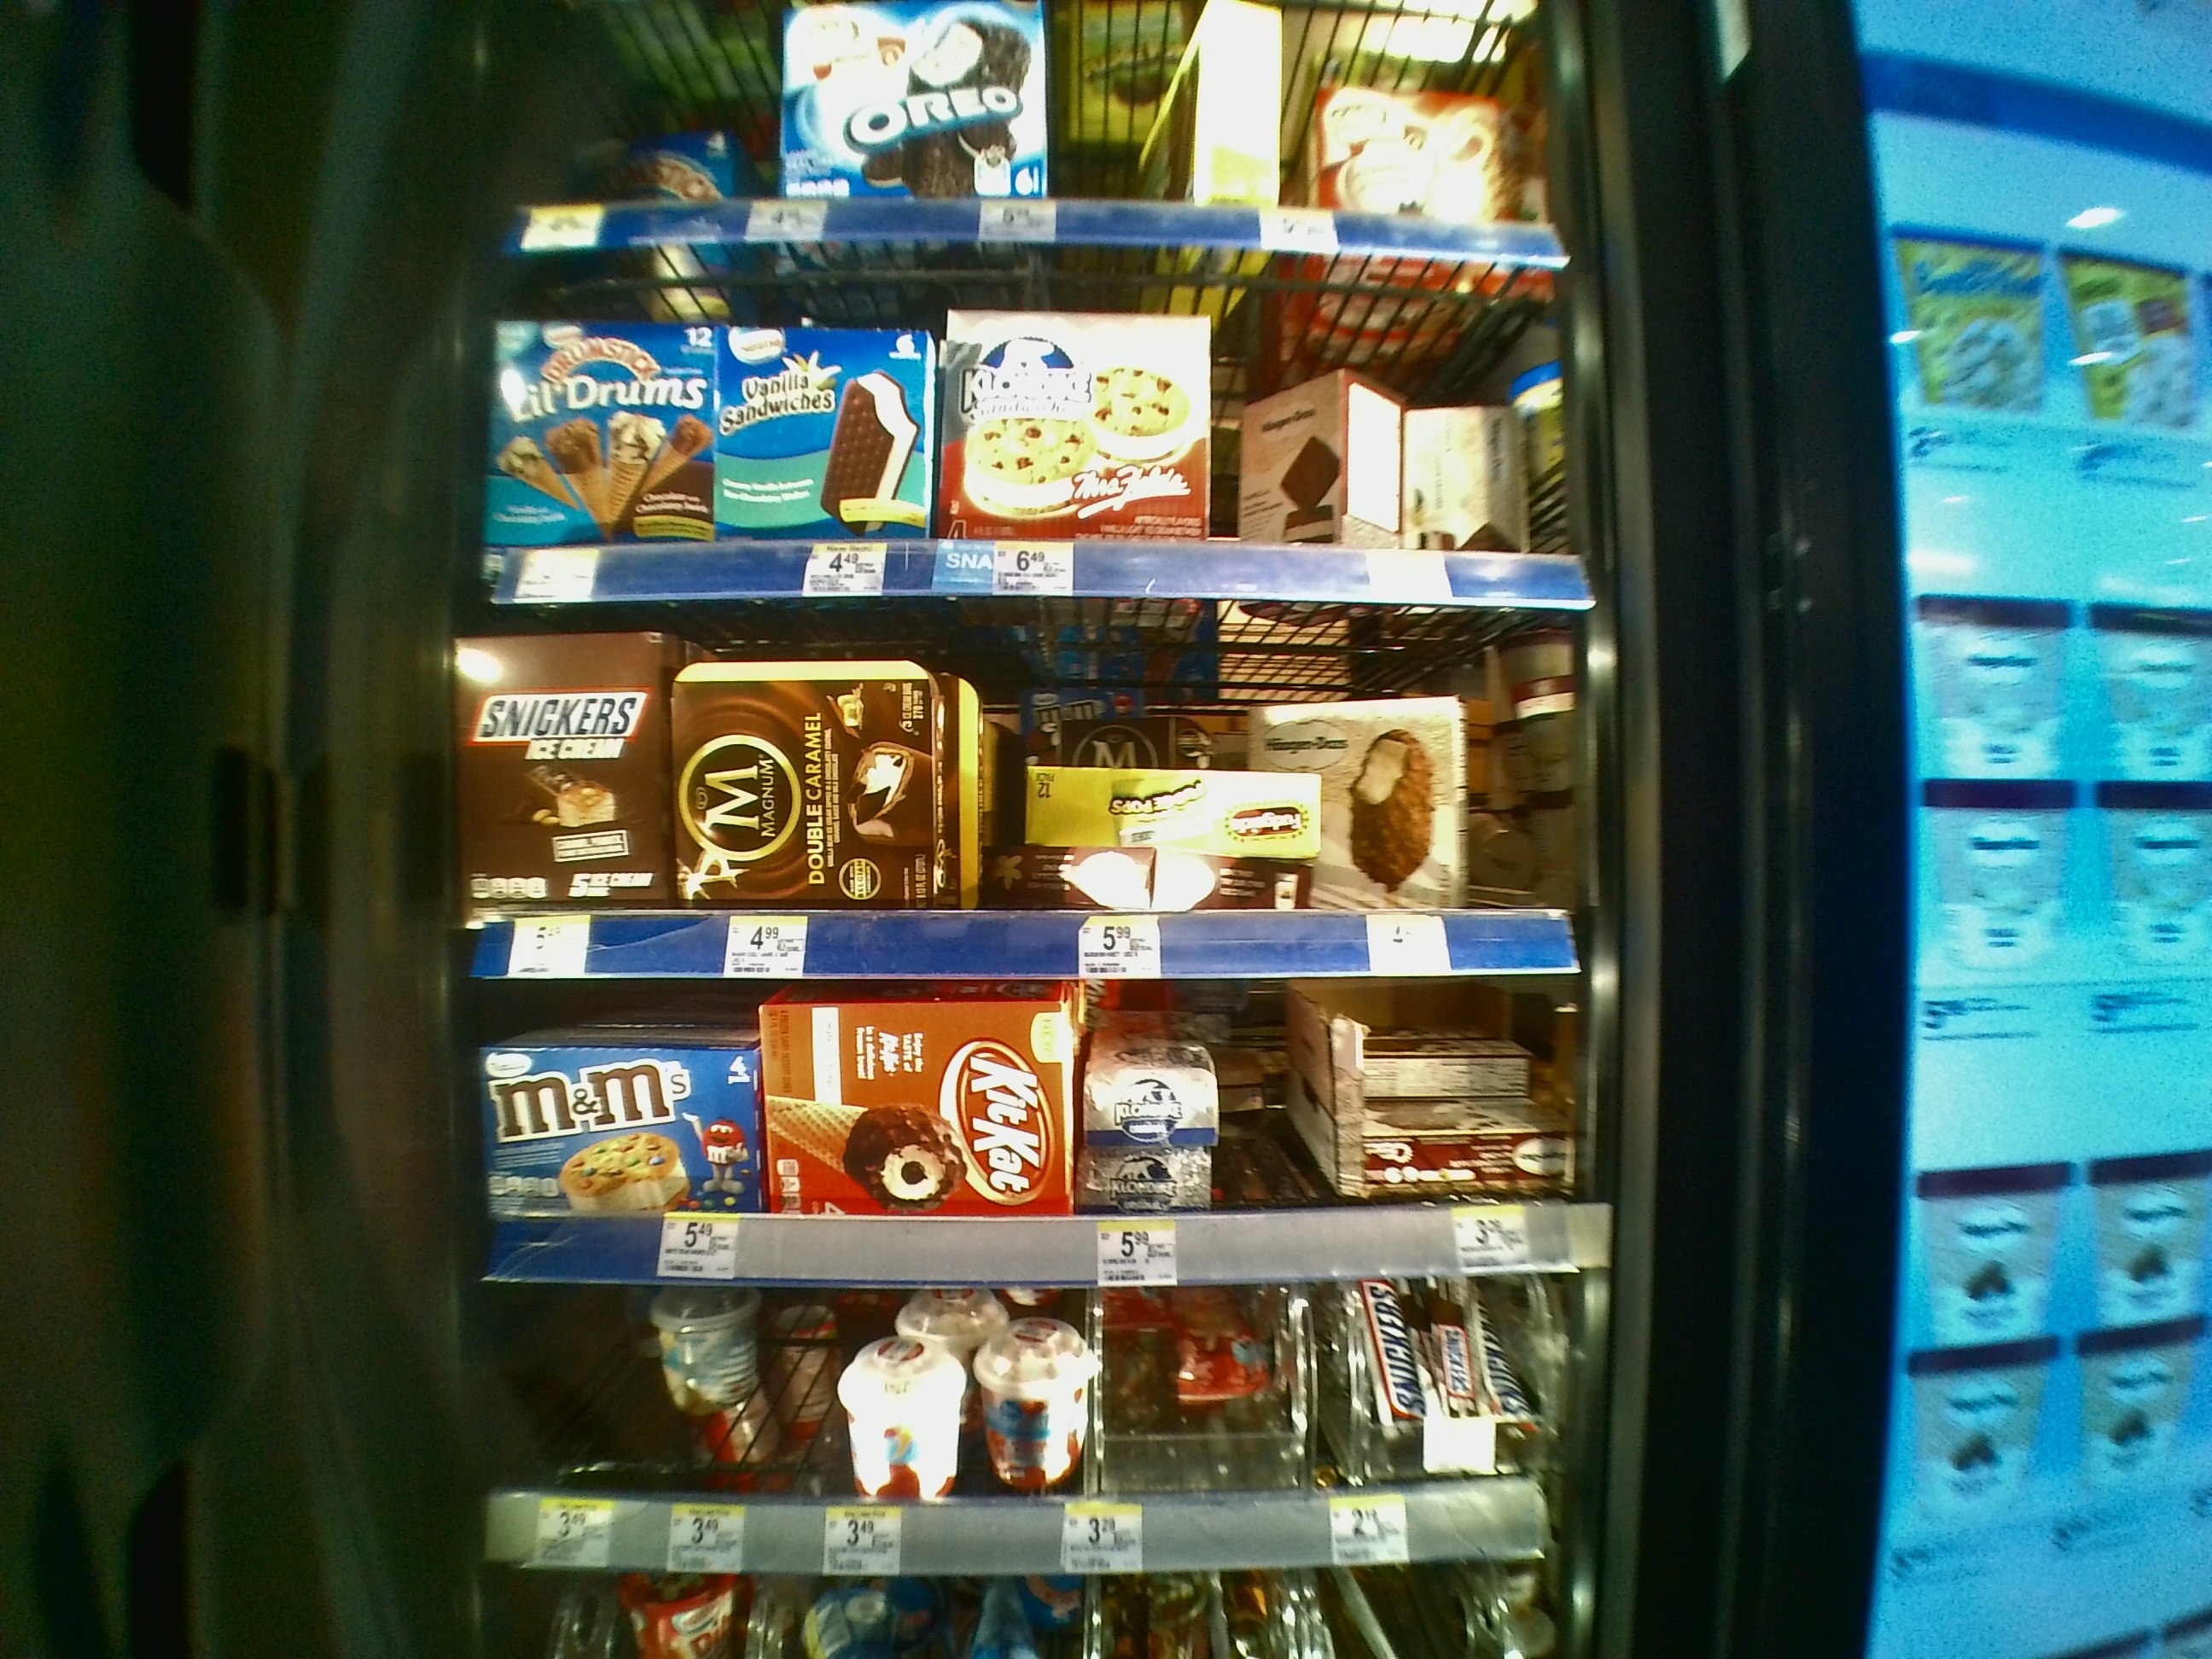shelf: (449, 613, 1583, 978), (465, 261, 1587, 606), (449, 988, 1594, 1279), (460, 1288, 1583, 1572)
